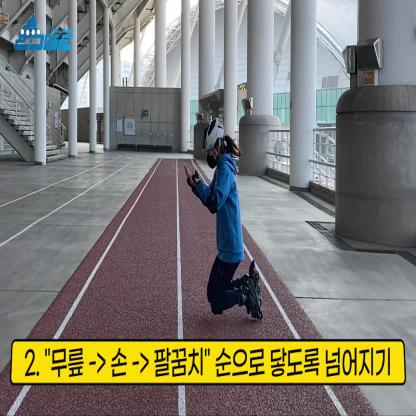Fall_Down: (181, 125, 260, 322)
